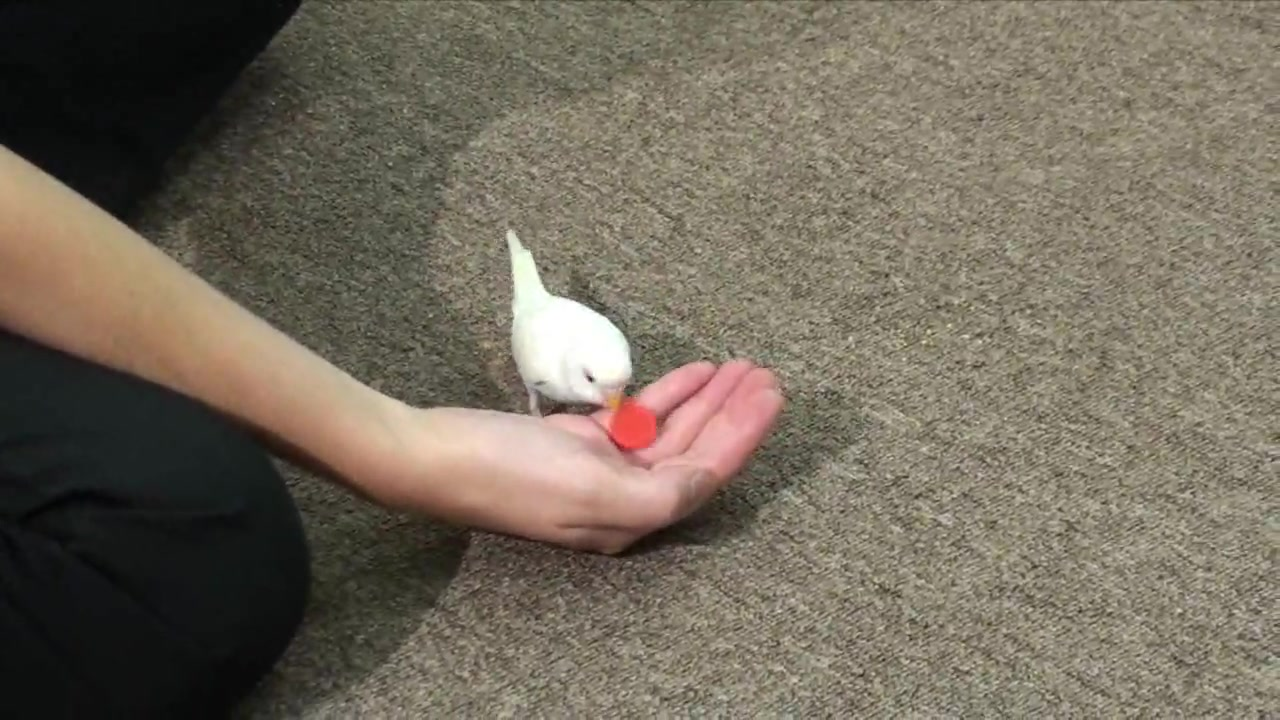bird: (504, 229, 635, 420)
